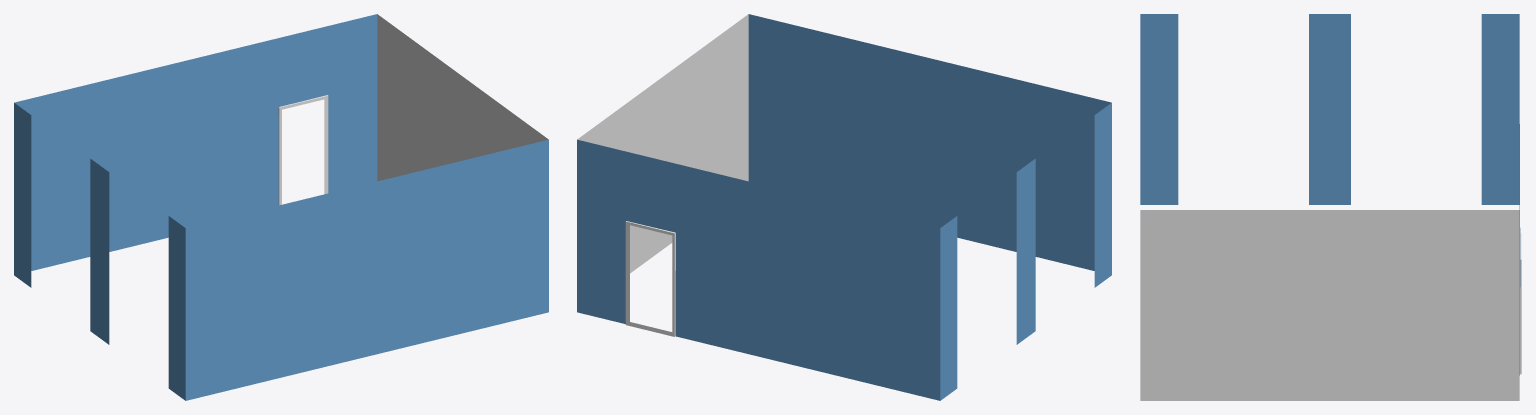
The model's file is wallsandfloorappartment.fbx.
The picture shows the model from 3 angles, left to right: view 1: azimuth 30°, elevation 25°; view 2: azimuth 150°, elevation 25°; view 3: azimuth 270°, elevation 25°; orthographic projection. The views are drawn at different scales.
Visible parts, largest first — view 1: Floor.003; view 2: Floor.003; view 3: Floor.003.
Boxes of the visible parts, left/top/right/bottom form: Floor.003: left=14, top=14, right=548, bottom=400; Floor.003: left=577, top=14, right=1111, bottom=400; Floor.003: left=1140, top=14, right=1521, bottom=400.
Size of the model in its own units: 1100 by 500 by 905.
